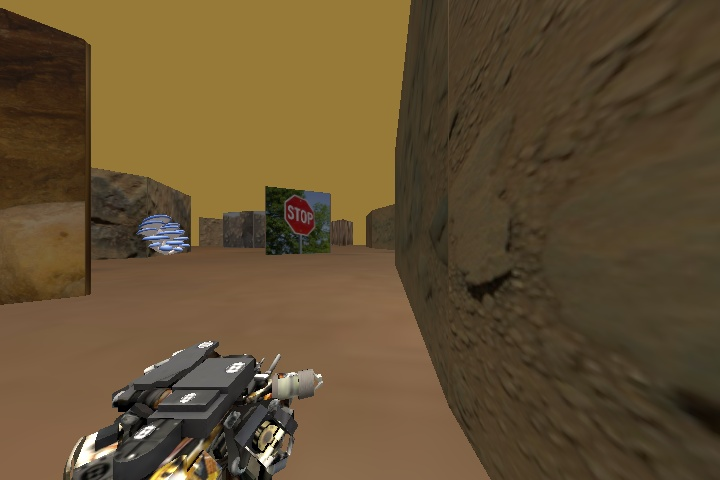mushroom: (138, 214, 189, 256)
sign: (282, 197, 317, 235)
